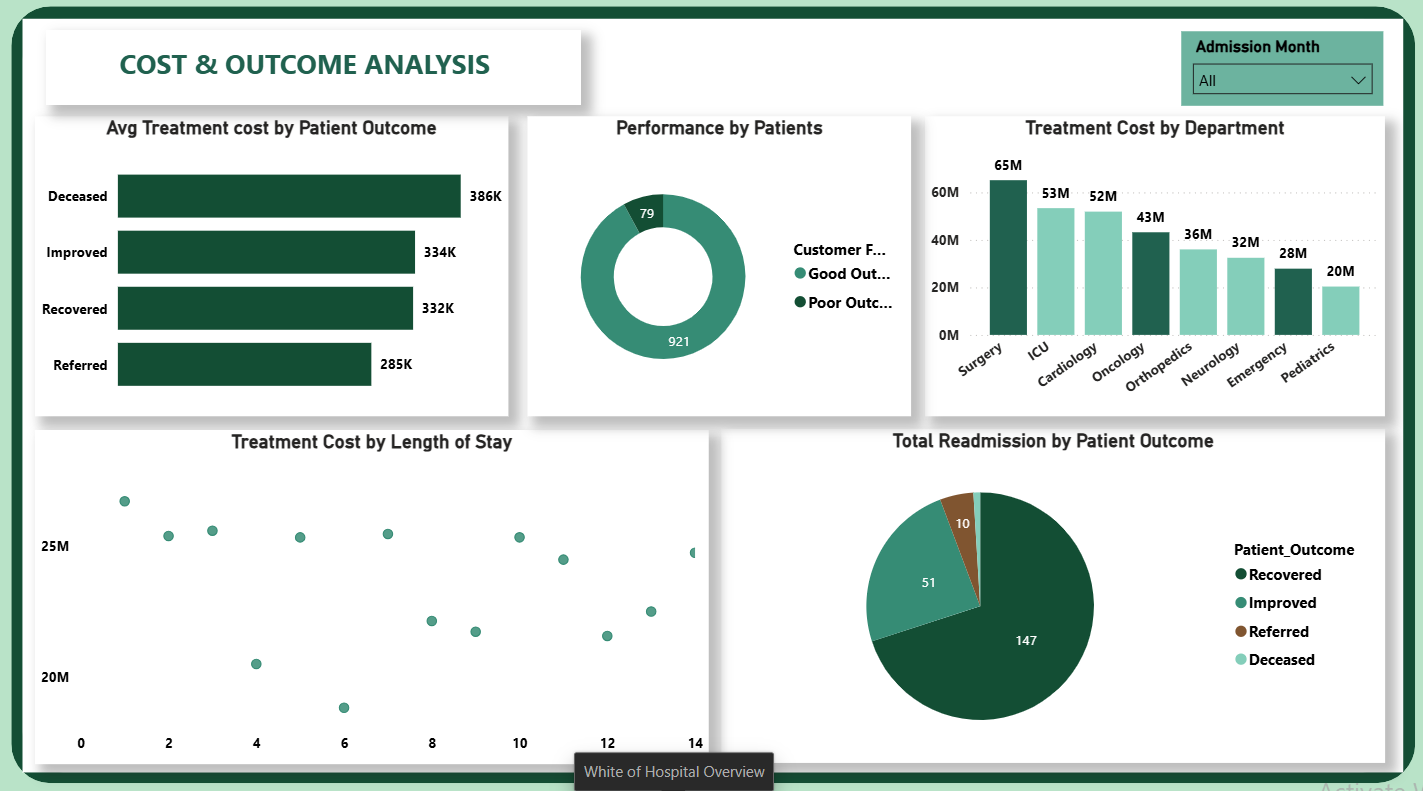

The dashboard page shown, as its layout file describes it:
{"tool":"powerbi","page":{"name":"Cost & Outcome Analysis","canvas":[1280,720],"ordinal":2},"visuals":[{"type":"shape","box":[18.4,14.7,1250.3,692],"z":0},{"type":"shape","box":[28.8,25.2,1229.7,671.2],"z":1000},{"type":"pieChart","title":"Total Readmission by Patient Outcome","fields":{"Category":["hospital_admissions.Patient_Outcome"],"Y":["hospital_admissions.Total Readmission"]},"box":[650.7,391,591.5,297.2],"z":2000},{"type":"barChart","title":"Avg Treatment cost by Patient Outcome","fields":{"Category":["hospital_admissions.Patient_Outcome"],"Y":["hospital_admissions.Avg Treatment cost"]},"box":[40.4,112.5,421.3,266.9],"z":3000},{"type":"scatterChart","title":"Treatment Cost by Length of Stay","fields":{"X":["hospital_admissions.Length_of_Stay"],"Y":["Sum(hospital_admissions.Treatment_Cost)"]},"box":[40.3,391.7,600,297.2],"z":4000},{"type":"shape","box":[50.5,36.1,476.1,66.4],"z":5000},{"type":"textbox","box":[80.8,44.7,398.2,46.2],"z":6000},{"type":"columnChart","title":"Treatment Cost by Department","fields":{"Category":["hospital_admissions.Department"],"Y":["Sum(hospital_admissions.Treatment_Cost)"]},"box":[832.5,112.5,409.7,266.9],"z":7000},{"type":"donutChart","title":" Performance by Patients","fields":{"Category":["hospital_admissions.Customer Feedback"],"Y":["hospital_admissions.Total Patients"]},"box":[479,112.5,341.9,266.9],"z":8000},{"type":"slicer","fields":{"Values":["hospital_admissions.Admission Month Hierarchy.Admission Month"]},"box":[1060.6,36.4,180.3,66.7],"z":8001}]}

Visuals, with their boxes in screenshot pixels (x1, y1, x2, y2), scaled from the page's 1280x720 canvas onto the 1423x791 screenshot:
shape: box(20, 16, 1410, 776)
shape: box(32, 28, 1399, 765)
"Total Readmission by Patient Outcome" pieChart: box(723, 430, 1381, 756)
"Avg Treatment cost by Patient Outcome" barChart: box(45, 124, 513, 417)
"Treatment Cost by Length of Stay" scatterChart: box(45, 430, 712, 757)
shape: box(56, 40, 585, 113)
textbox: box(90, 49, 533, 100)
"Treatment Cost by Department" columnChart: box(926, 124, 1381, 417)
" Performance by Patients" donutChart: box(533, 124, 913, 417)
slicer - hospital_admissions.Admission Month Hierarchy.Admission Month: box(1179, 40, 1380, 113)
